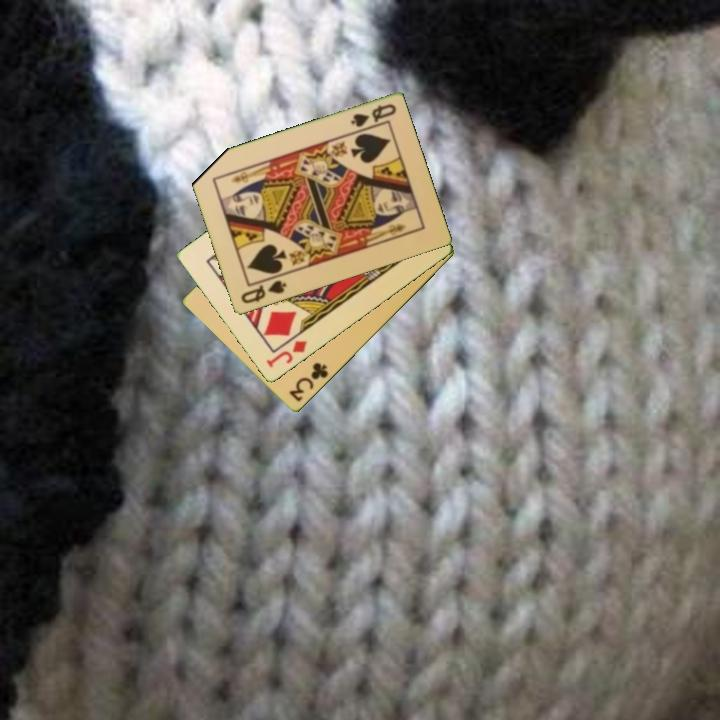3c: (286, 359, 331, 405)
Jd: (263, 337, 310, 371)
Qs: (237, 277, 289, 307), (347, 100, 399, 130)
